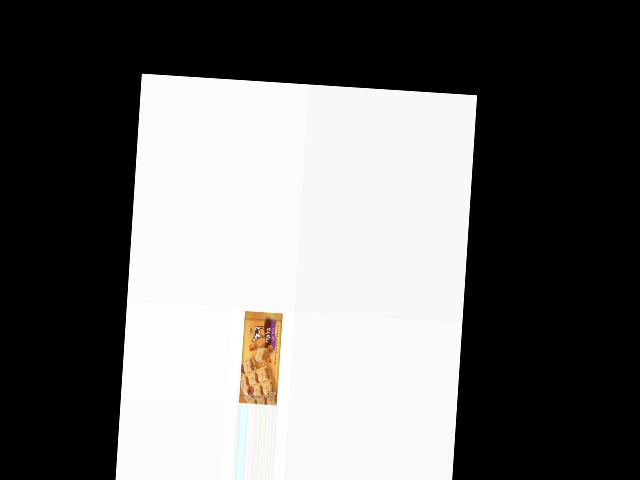chocolate: (239, 308, 285, 405)
